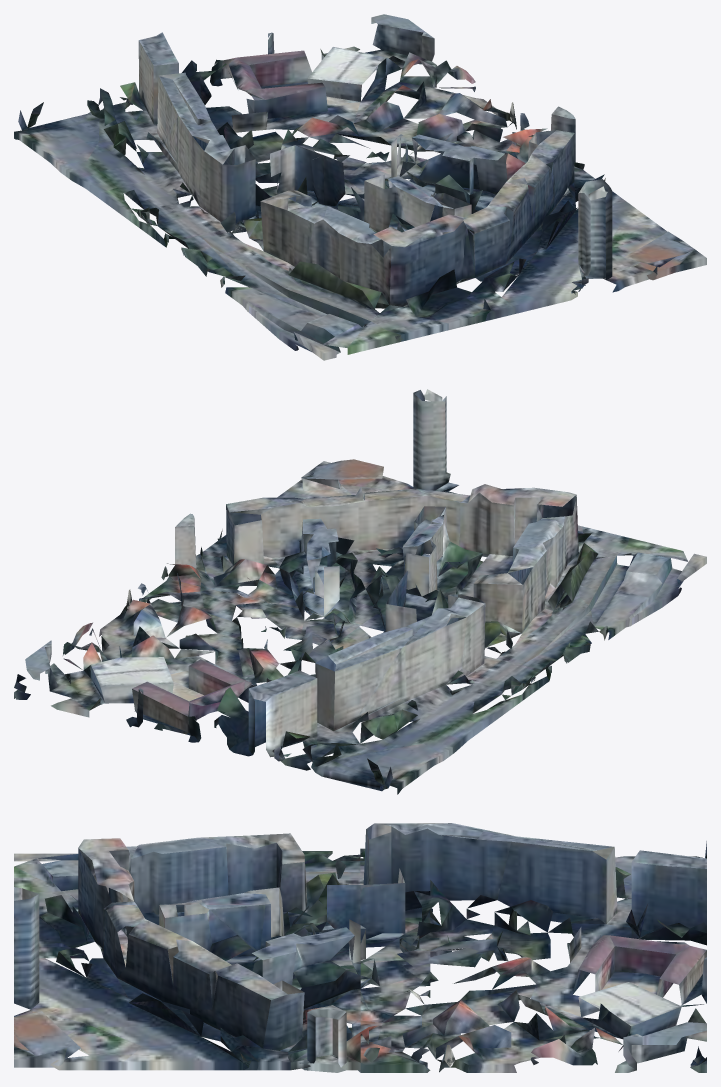
3 views of the same model, one above another, from view 1: azimuth 30°, elevation 25°; view 2: azimuth 150°, elevation 25°; view 3: azimuth 270°, elevation 25° (orthographic). The views are drawn at different scales.
Visible parts, largest first — view 1: 30436272704361504_0; view 2: 30436272704361504_0; view 3: 30436272704361504_0.
Part boxes in pixels (x1=…): 30436272704361504_0: x1=14, y1=14, x2=706, y2=360; 30436272704361504_0: x1=14, y1=389, x2=706, y2=794; 30436272704361504_0: x1=14, y1=823, x2=706, y2=1072.
Bounding box in the file's own units: 219 × 64.12 × 306.
Materials: 1 (1 with a texture image).
